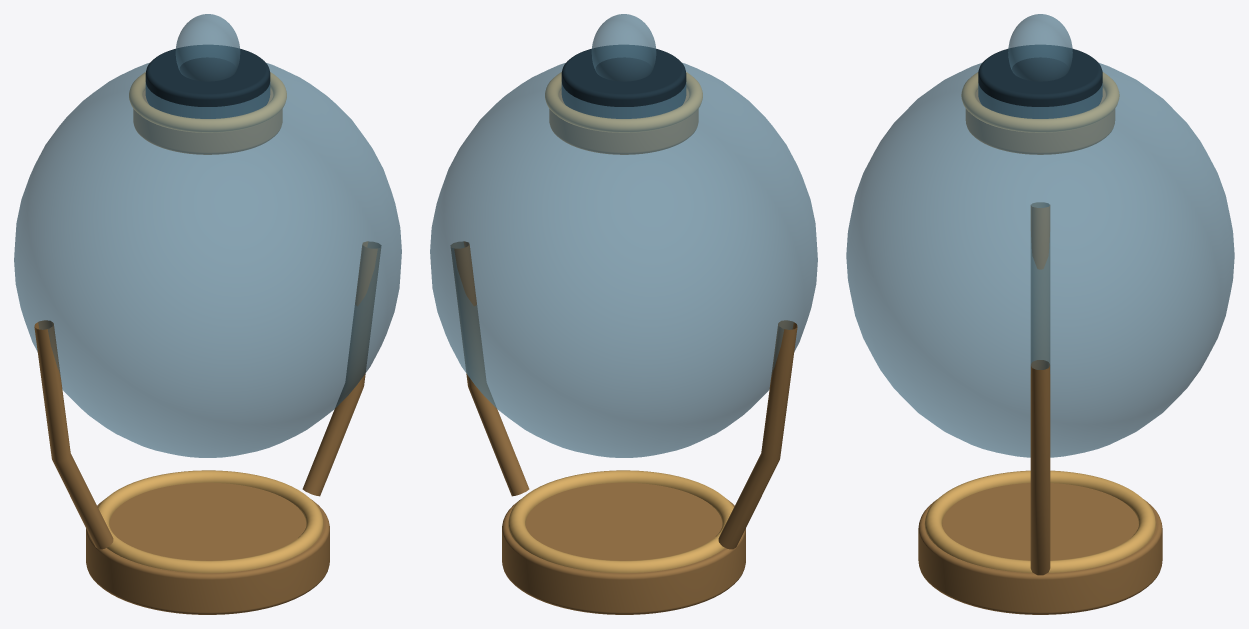
The model's file is memory-vessel-v1.glb.
3 renders of one model, left to right at view 1: azimuth 30°, elevation 25°; view 2: azimuth 150°, elevation 25°; view 3: azimuth 270°, elevation 25°, orthographic.
Parts seen in each view (by area): view 1: CrystalShell, VesselFoot, EnamelStopper, FootRim, VesselBrace.001, VesselBrace, StopperGem, VesselCollar, CollarLip; view 2: CrystalShell, VesselFoot, EnamelStopper, FootRim, VesselBrace.001, VesselBrace, StopperGem, VesselCollar, CollarLip; view 3: CrystalShell, VesselFoot, EnamelStopper, FootRim, VesselBrace.001, StopperGem, VesselCollar, VesselBrace, CollarLip.
Boxes of the visible parts, left/top/right/bottom form: CrystalShell: left=14, top=62, right=401, bottom=457; VesselFoot: left=86, top=482, right=329, bottom=614; EnamelStopper: left=145, top=45, right=270, bottom=118; FootRim: left=98, top=470, right=323, bottom=573; VesselBrace.001: left=302, top=241, right=381, bottom=496; VesselBrace: left=34, top=320, right=113, bottom=549; StopperGem: left=175, top=14, right=240, bottom=81; VesselCollar: left=133, top=89, right=282, bottom=154; CollarLip: left=129, top=72, right=286, bottom=132; CrystalShell: left=430, top=62, right=817, bottom=457; VesselFoot: left=502, top=482, right=745, bottom=614; EnamelStopper: left=561, top=45, right=686, bottom=118; FootRim: left=508, top=470, right=733, bottom=573; VesselBrace.001: left=450, top=241, right=529, bottom=496; VesselBrace: left=718, top=320, right=797, bottom=549; StopperGem: left=591, top=14, right=656, bottom=81; VesselCollar: left=549, top=89, right=698, bottom=154; CollarLip: left=545, top=72, right=702, bottom=132; CrystalShell: left=846, top=63, right=1234, bottom=457; VesselFoot: left=918, top=483, right=1162, bottom=614; EnamelStopper: left=978, top=45, right=1102, bottom=118; FootRim: left=924, top=470, right=1156, bottom=572; VesselBrace.001: left=1030, top=360, right=1050, bottom=575; StopperGem: left=1008, top=14, right=1072, bottom=81; VesselCollar: left=965, top=89, right=1115, bottom=154; VesselBrace: left=1030, top=202, right=1050, bottom=362; CollarLip: left=961, top=72, right=1119, bottom=132.
Bounding box in the file's own units: 1.6 × 2.43 × 1.56.
